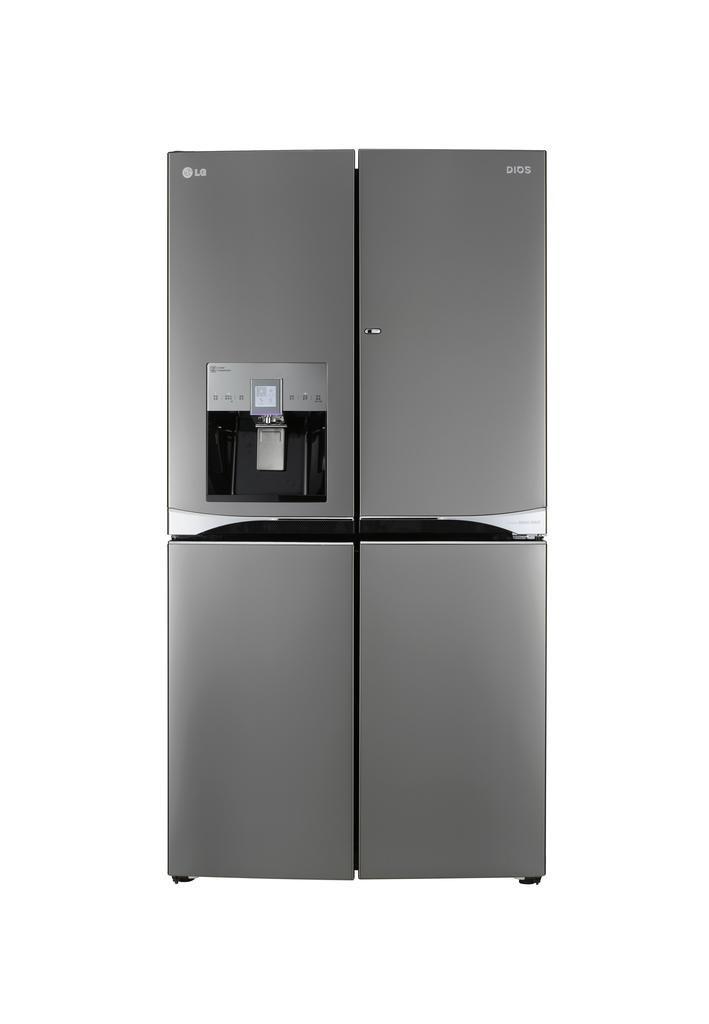handle: (213, 508, 351, 558), (360, 514, 530, 552)
